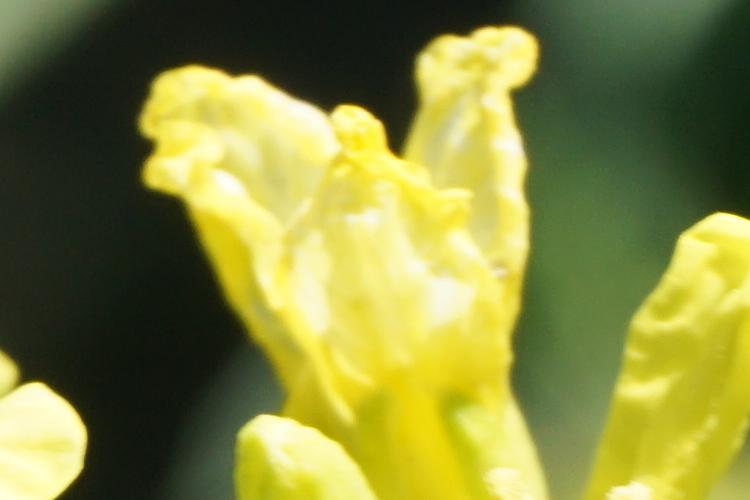bud: (230, 404, 370, 494)
yellow: (150, 52, 730, 492)
